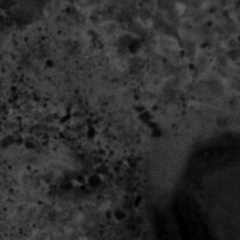Vegetation: (51, 2, 239, 131), (1, 26, 50, 240), (51, 136, 81, 240), (84, 133, 149, 163)
